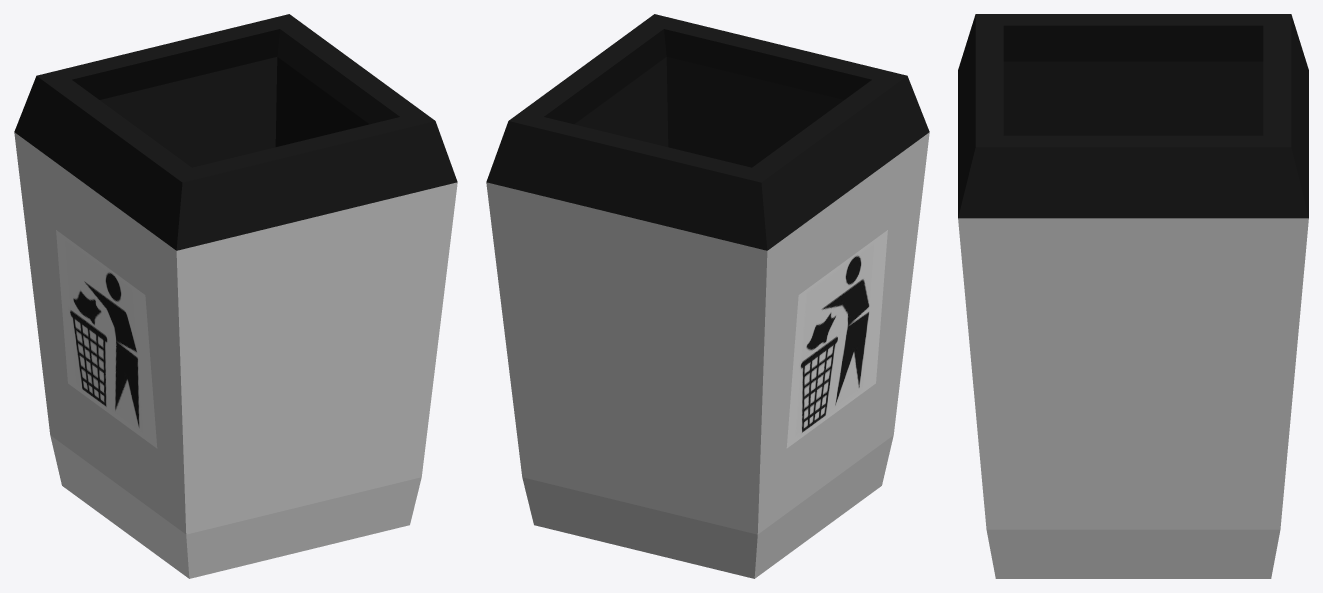
Rendered from Modelo3DBasurero.FBX.
The picture shows the model from 3 angles, left to right: view 1: azimuth 30°, elevation 25°; view 2: azimuth 150°, elevation 25°; view 3: azimuth 270°, elevation 25°; orthographic projection. The views are drawn at different scales.
Parts seen in each view (by area): view 1: Box001, Plane001; view 2: Box001, Plane001; view 3: Box001.
Part boxes in pixels (<box>): Box001: <box>14,14,457,578</box>; Plane001: <box>56,230,157,448</box>; Box001: <box>486,14,929,578</box>; Plane001: <box>786,230,887,448</box>; Box001: <box>958,14,1308,578</box>.
Bounding box in the file's own units: 39.37 × 54.48 × 39.37.
Materials: 3 (1 with a texture image).
